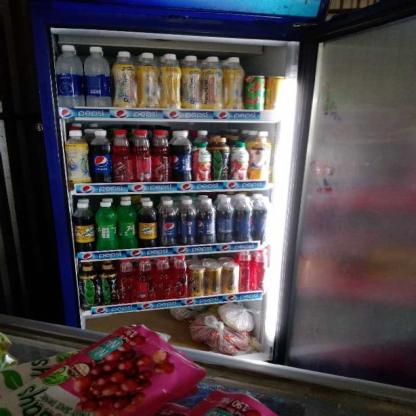7up: (243, 72, 266, 112)
7up-chai: (94, 199, 117, 249), (114, 200, 137, 247)
another: (264, 72, 289, 112)
aquafina: (52, 41, 86, 109), (81, 43, 112, 106)
mirinda-xaxi-chai: (67, 198, 95, 250), (137, 198, 157, 248)
olong-tea: (75, 262, 98, 310), (96, 261, 118, 304), (210, 134, 229, 180)
olong-teaplus: (248, 135, 270, 180)
pepsi-blue-chai: (90, 128, 112, 185), (169, 125, 191, 180), (155, 196, 178, 245), (176, 197, 197, 244), (195, 197, 216, 243), (215, 194, 234, 244), (233, 195, 252, 241), (253, 193, 271, 239)
revive-chanhmuoi-chai: (62, 128, 90, 185), (112, 48, 138, 107), (133, 51, 160, 107), (177, 51, 202, 111), (158, 52, 181, 109), (222, 54, 243, 113), (202, 54, 221, 111)
sting-red-chai: (150, 126, 171, 182), (130, 126, 151, 181), (110, 127, 130, 182), (166, 252, 188, 298), (114, 257, 135, 302), (134, 254, 154, 301), (152, 255, 171, 302), (250, 248, 270, 290), (236, 249, 252, 292)
sting-yellow: (184, 261, 208, 299), (202, 260, 224, 297), (219, 259, 240, 294)
twister-dau: (188, 141, 212, 180), (229, 142, 248, 180)
